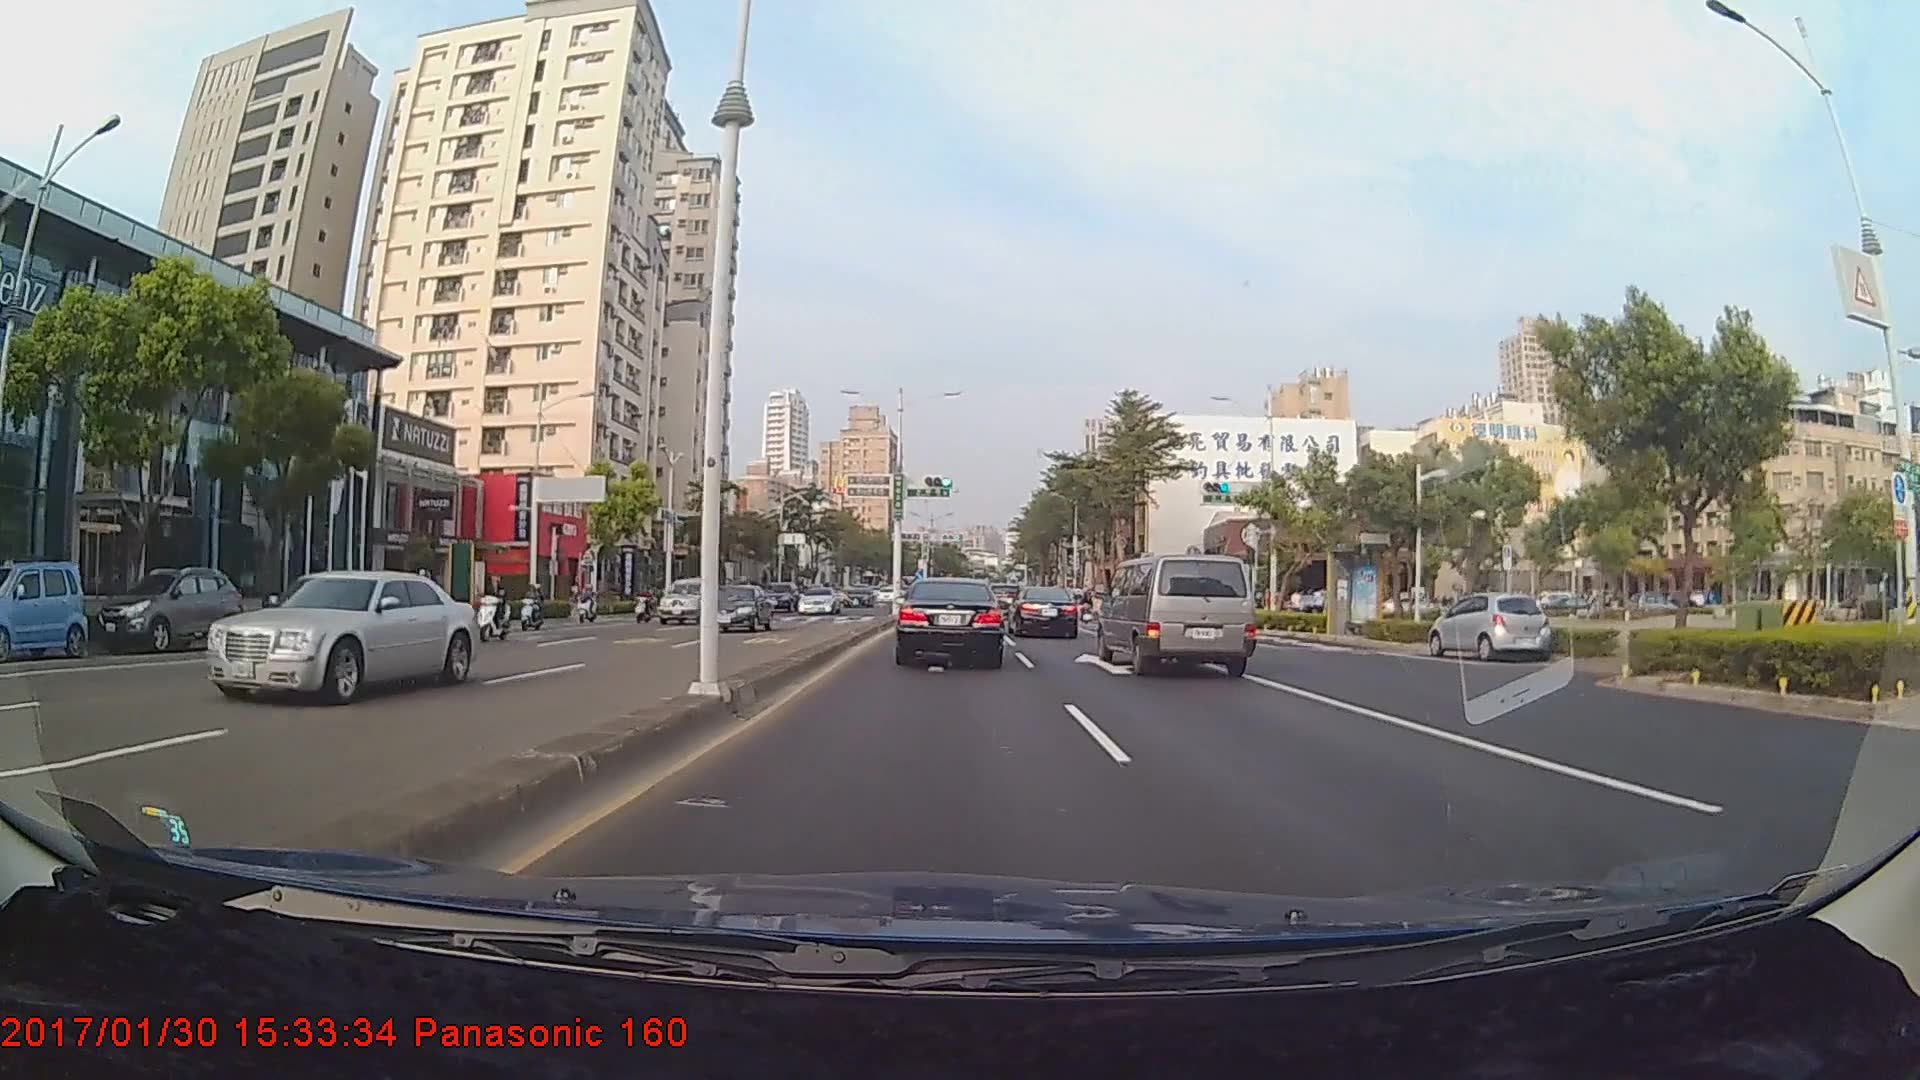rider: (470, 570, 513, 644)
vehicle: (203, 570, 480, 704), (1096, 548, 1258, 678), (93, 566, 246, 652), (896, 576, 1007, 668), (0, 558, 88, 661), (1430, 592, 1551, 662), (1007, 584, 1081, 639), (714, 582, 783, 630), (654, 574, 719, 624), (797, 584, 842, 616), (759, 581, 799, 612), (839, 584, 876, 609)
